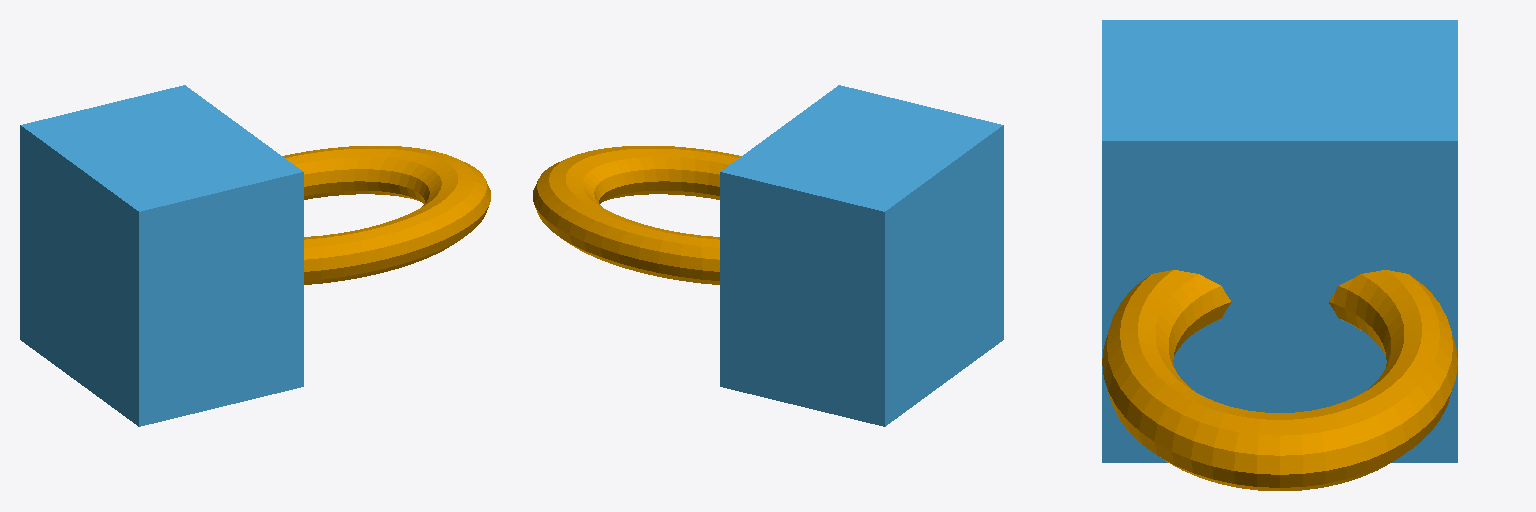
The robot description file, URDF, robot "chain_start":
<?xml version="1.0" ?>
<robot name="chain_start">
  <link name="torus">
    <visual>
      <origin xyz="0 0 0"/>
      <geometry>
        <mesh filename="package://meshes/torus.stl"/>
      </geometry>
    </visual>
    <collision>
      <origin xyz="0 0 0"/>
      <geometry>
        <mesh filename="package://meshes/torus.stl"/>
      </geometry>
    </collision>
    <inertial>
      <mass value="0.1"/>
      <inertia ixx="0.01" ixy="0.0" ixz="0.0" iyy="0.01" iyz="0.0" izz="0.01"/>
    </inertial>
  </link>
  <link name="box">
    <visual>
      <origin xyz="0 0 0"/>
      <geometry>
        <box size="0.04 0.05 0.05" />
      </geometry>
    </visual>
    <collision>
      <origin xyz="0 0 0"/>
      <geometry>
        <box size="0.04 0.05 0.05" />
      </geometry>
    </collision>
    <inertial>
      <mass value="0.1"/>
      <inertia ixx="0.01" ixy="0.0" ixz="0.0" iyy="0.01" iyz="0.0" izz="0.01"/>
    </inertial>
  </link>
  <joint name="torus_box" type="fixed">
    <origin xyz="-0.04 0 0"/>
    <parent link="torus"/>
    <child link="box"/>
  </joint>
</robot>

--- Render facts (derived) ---
The picture shows the robot from 3 angles, left to right: view 1: azimuth 30°, elevation 25°; view 2: azimuth 150°, elevation 25°; view 3: azimuth 270°, elevation 25°; orthographic projection.
Model chain_start with 2 links and 1 joints (1 fixed), rooted at torus, posed all joints at 0.
Links seen in each view (by area): view 1: box, torus; view 2: box, torus; view 3: box, torus.
Boxes of the visible links, bbox=[...] form: box: bbox=[20, 85, 303, 426]; torus: bbox=[283, 146, 490, 284]; box: bbox=[720, 85, 1003, 426]; torus: bbox=[533, 146, 740, 284]; box: bbox=[1102, 20, 1457, 462]; torus: bbox=[1102, 270, 1457, 490].
Bounding box of the posed robot: 0.0975 × 0.05 × 0.05 m (x, y, z).
1 mesh visuals loaded from 1 distinct referenced files (1 binary STL).
